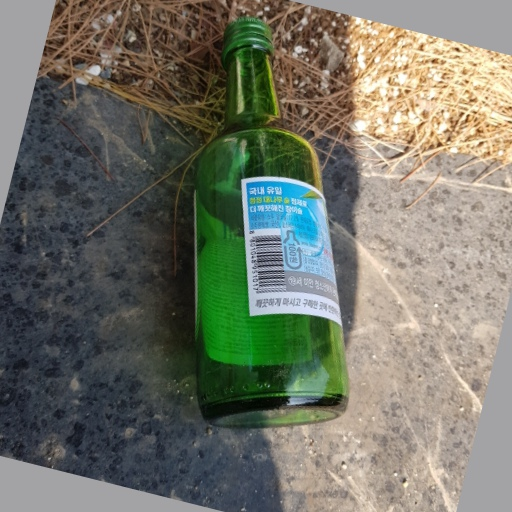Glass_0: (187, 15, 351, 430)
